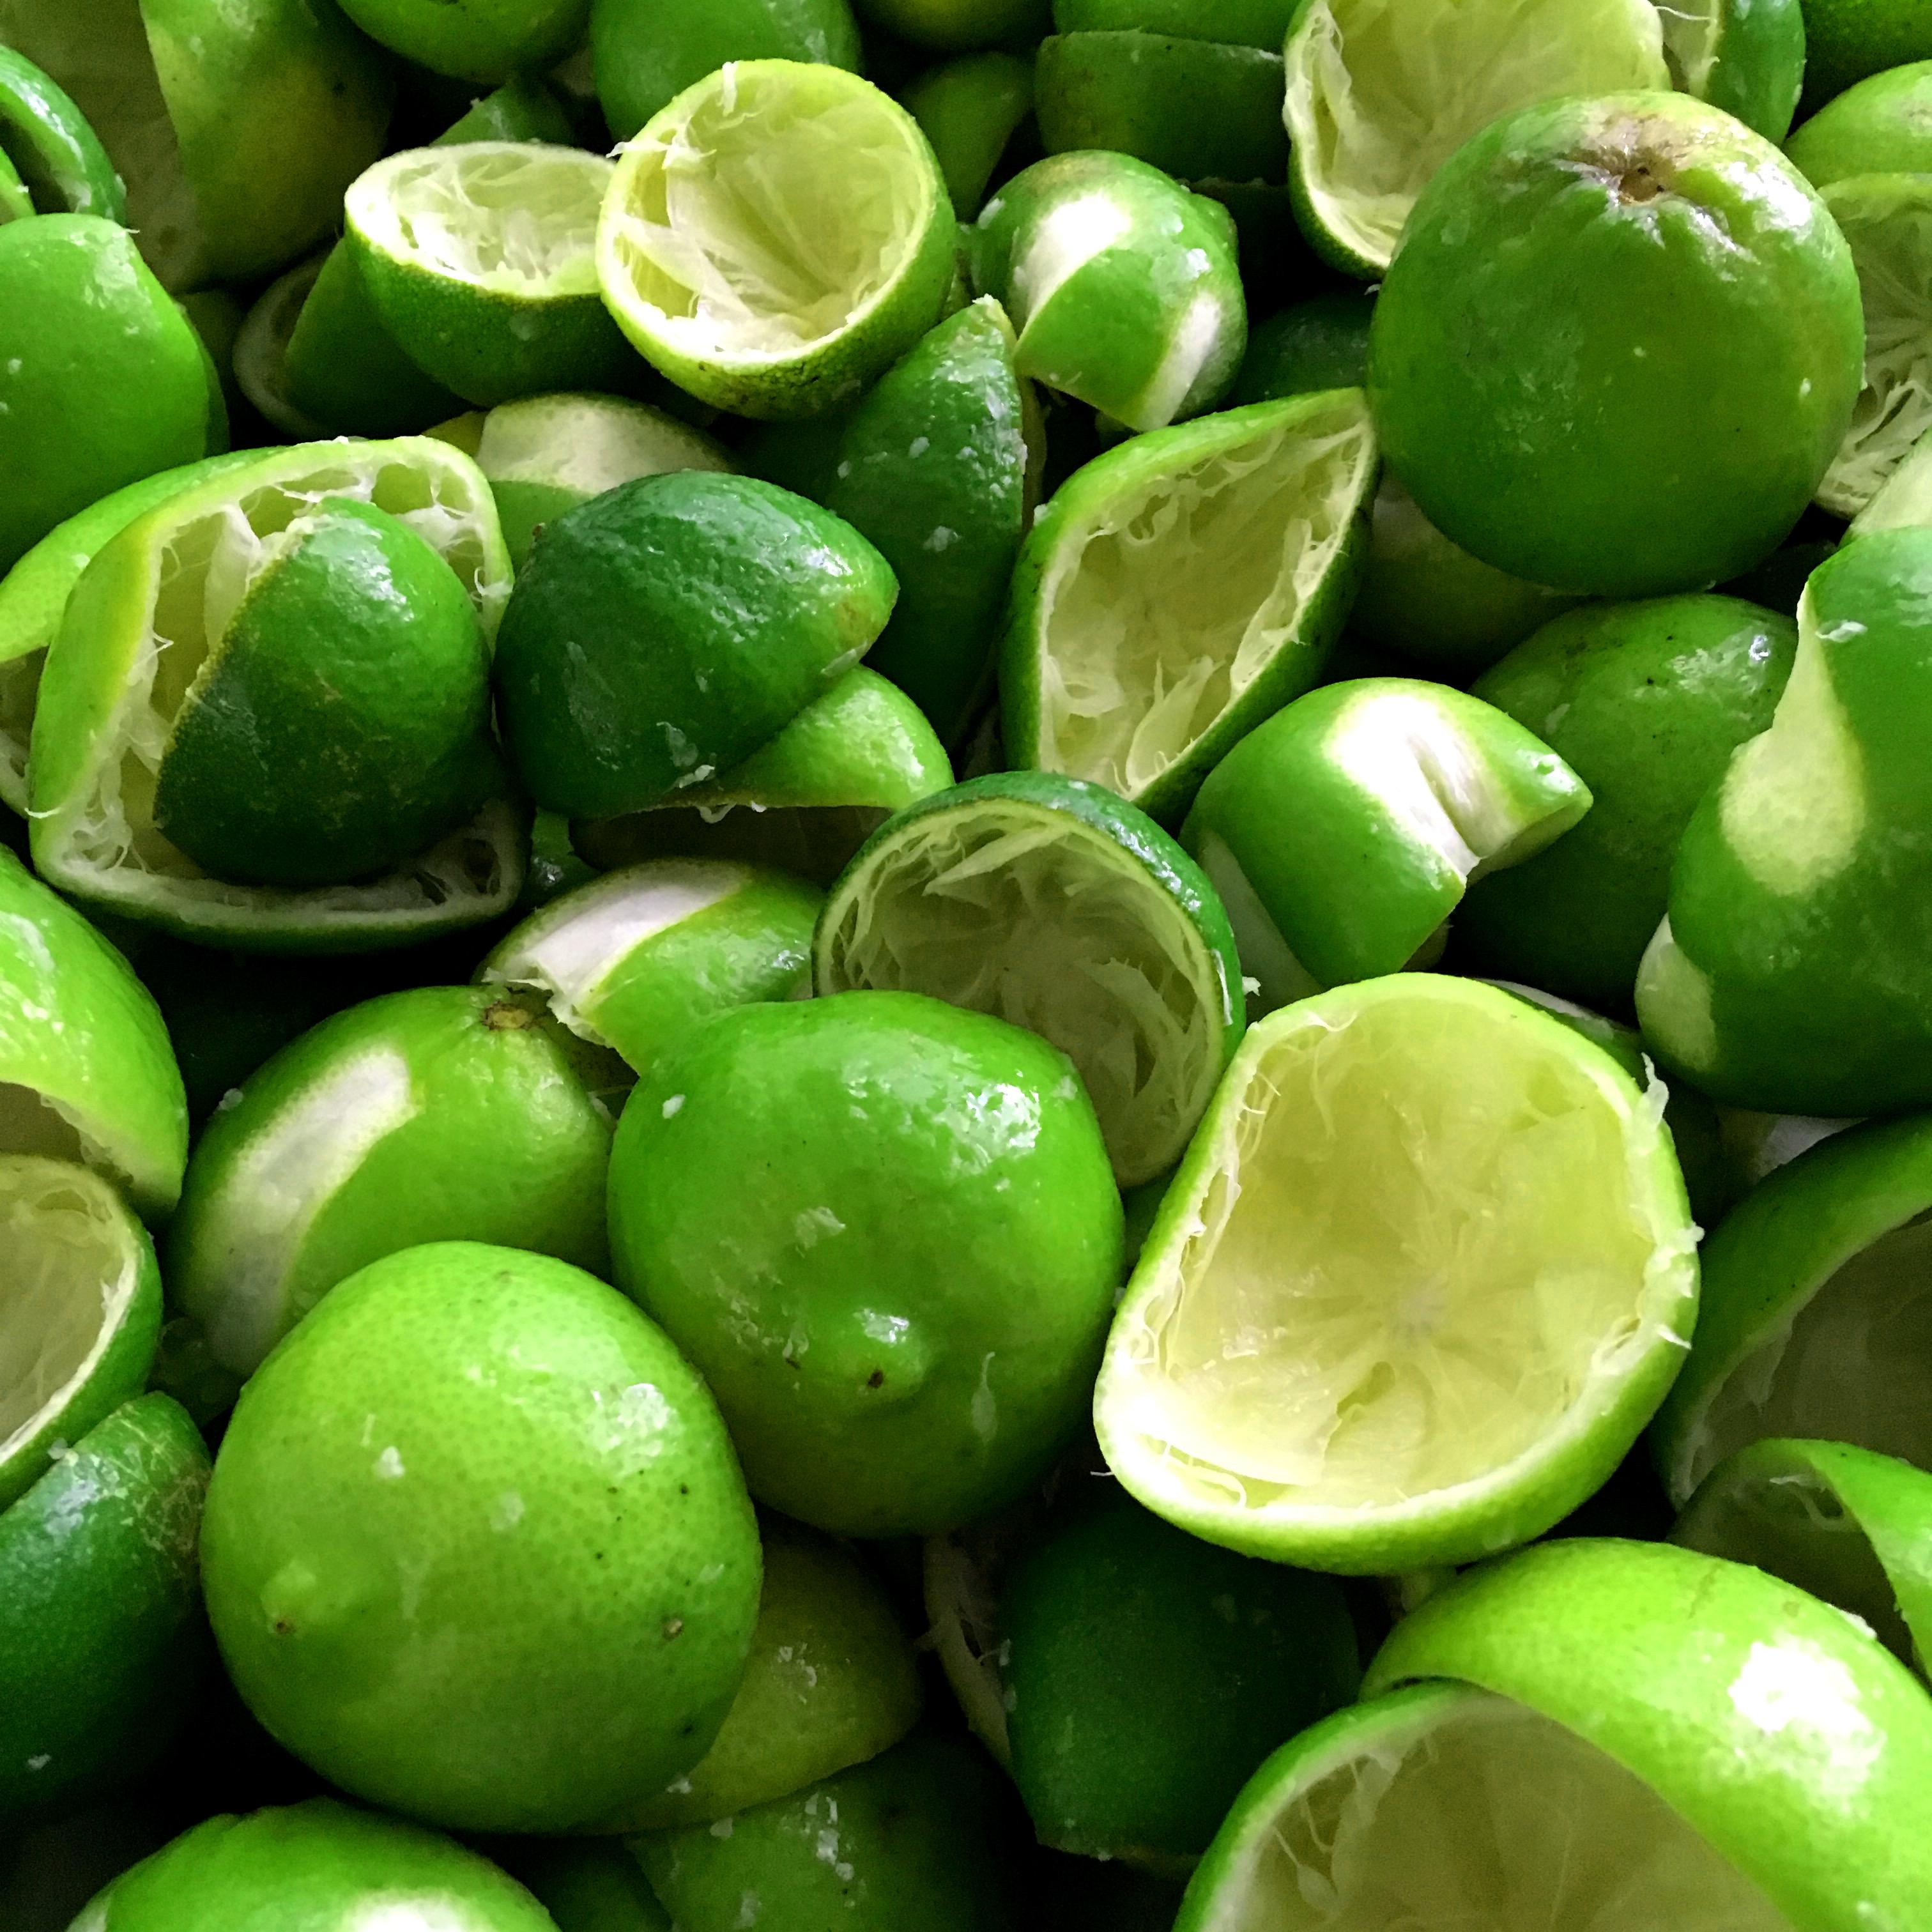organic: (1093, 975, 1704, 1569), (209, 1240, 764, 1833), (612, 989, 1120, 1534), (1380, 96, 1867, 593), (814, 755, 1237, 1212), (991, 387, 1421, 805), (596, 57, 966, 423), (1290, 0, 1663, 278), (947, 152, 1254, 432), (352, 142, 639, 403)
